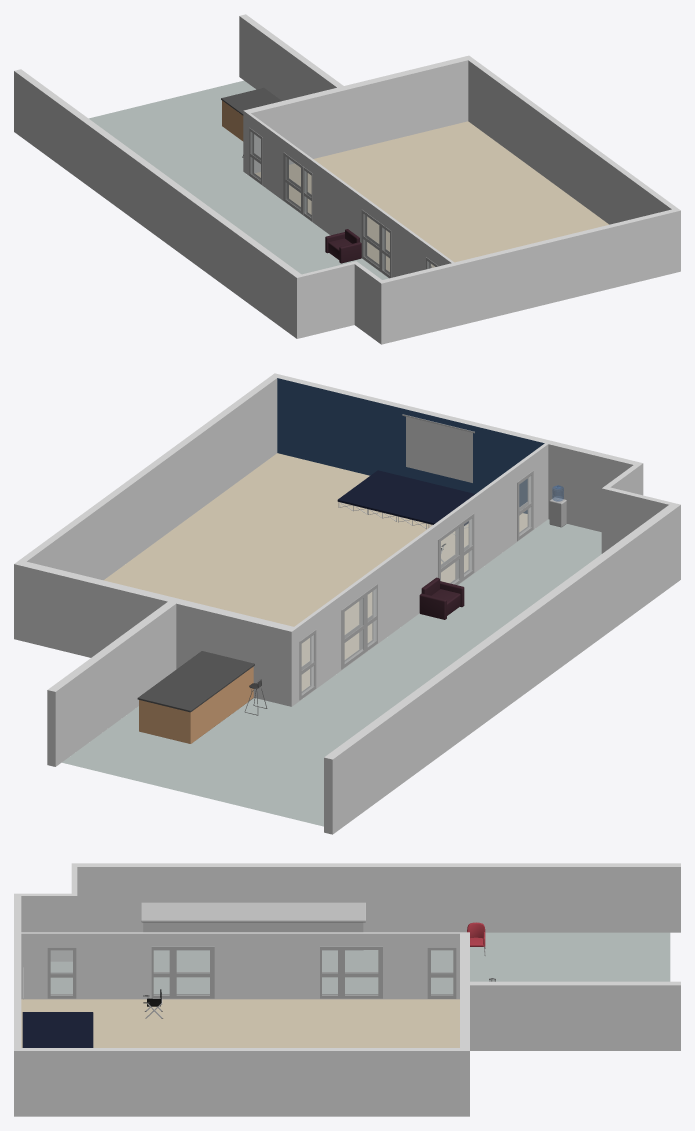
Rendered from EventGrounds.glb.
3 renders of one model, top to bottom at view 1: azimuth 30°, elevation 25°; view 2: azimuth 150°, elevation 25°; view 3: azimuth 270°, elevation 25°, orthographic. The views are drawn at different scales.
Visible parts, largest first — view 1: EventCenter, Couch; view 2: EventCenter, Couch; view 3: EventCenter, VisitorEntranceChair.
Boxes of the visible parts, left/top/right/bottom form: EventCenter: left=14, top=14, right=680, bottom=344; Couch: left=325, top=229, right=361, bottom=263; EventCenter: left=14, top=373, right=680, bottom=834; Couch: left=419, top=577, right=464, bottom=619; EventCenter: left=14, top=863, right=680, bottom=1116; VisitorEntranceChair: left=467, top=922, right=485, bottom=956.
Size of the model in its own units: 53.99 by 8.82 by 81.15.
